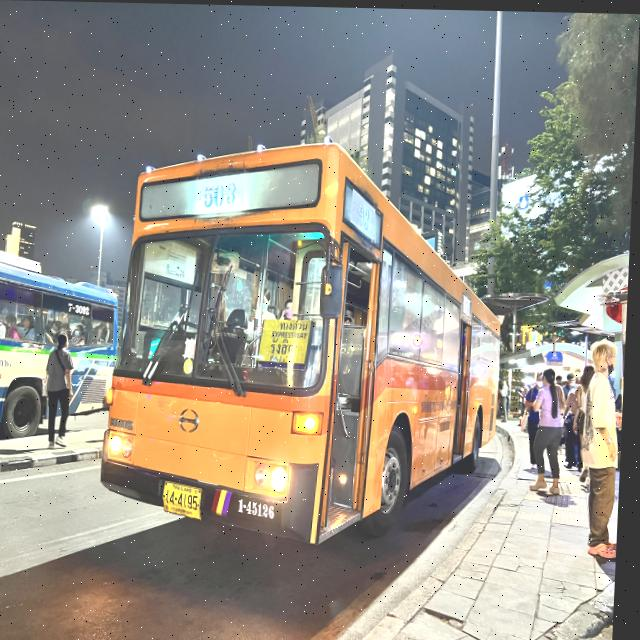BMTA-bus: (100, 139, 512, 549)
Bus-Line-Number: (195, 170, 254, 211)
Destination-Sign-Normal-Expressway: (259, 315, 319, 369)
